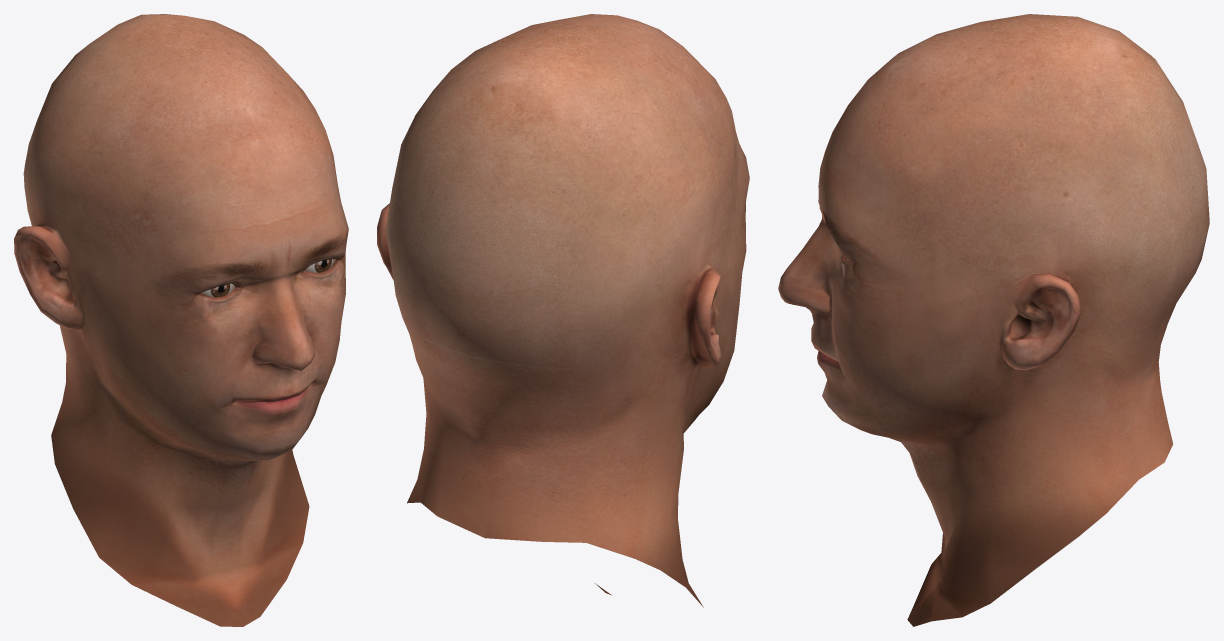
File: interviewer-male.glb
The picture shows the model from 3 angles, left to right: view 1: azimuth 30°, elevation 25°; view 2: azimuth 150°, elevation 25°; view 3: azimuth 270°, elevation 25°; orthographic projection. The views are drawn at different scales.
Parts seen in each view (by area): view 1: Face; view 2: Face; view 3: Face.
Boxes of the visible parts, x1,y1,x2,y2 form: Face: (14,14,348,626); Face: (377,14,749,607); Face: (778,14,1209,626).
Size of the model in its own units: 0.1908 by 0.3479 by 0.2302.
Materials: 1 (1 with a texture image).
